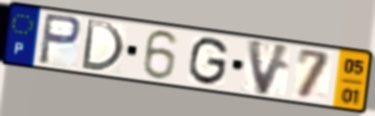6: (140, 28, 181, 82)
7: (294, 46, 334, 100)
D: (78, 17, 127, 75)
G: (186, 36, 231, 88)
P: (36, 11, 84, 68)
V: (245, 37, 295, 99)
